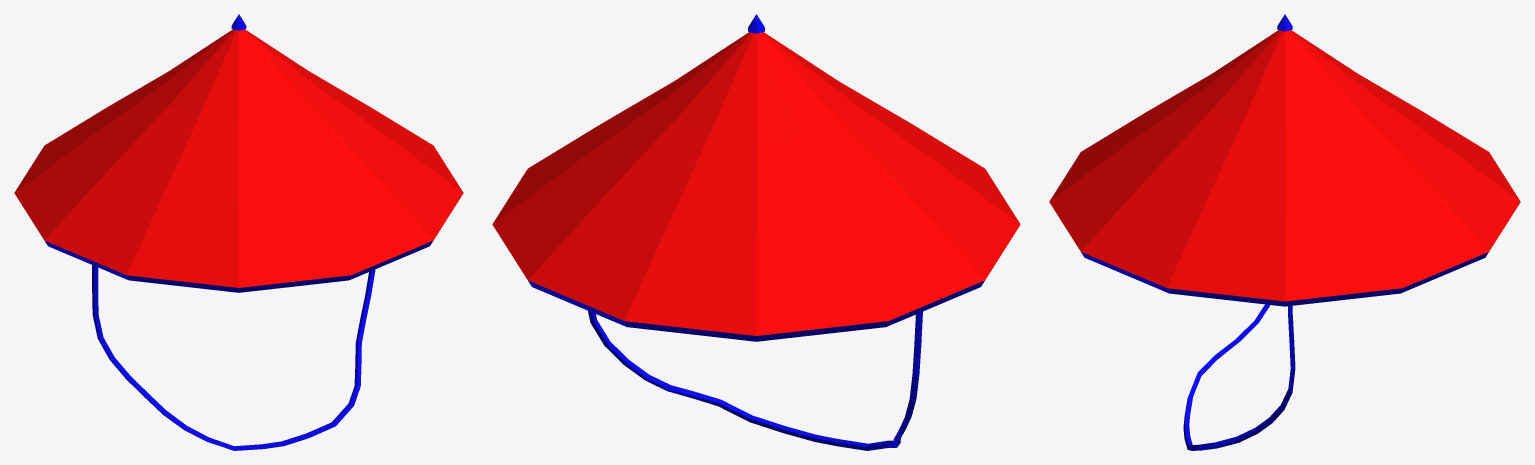
Rendered from head_non_la_01.glb.
3 views of the same model, side by side, from view 1: azimuth 30°, elevation 25°; view 2: azimuth 150°, elevation 25°; view 3: azimuth 270°, elevation 25° (orthographic). The views are drawn at different scales.
Visible parts, largest first — view 1: head_non_la_01; view 2: head_non_la_01; view 3: head_non_la_01.
Boxes of the visible parts, x1,y1,x2,y2 form: head_non_la_01: (14,14,463,450); head_non_la_01: (492,14,1020,450); head_non_la_01: (1049,14,1520,450).
Size of the model in its own units: 0.43 by 0.4192 by 0.43.
Materials: 1 (1 with a texture image).
